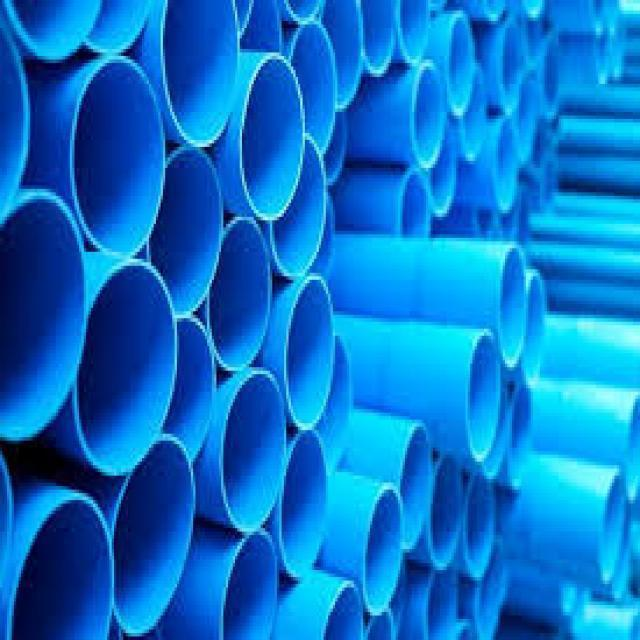pipe: (75, 261, 176, 478), (1, 196, 88, 443), (71, 58, 163, 253), (112, 436, 194, 637), (9, 499, 115, 640), (147, 149, 223, 312), (162, 1, 239, 145), (240, 56, 305, 220), (221, 369, 286, 531), (208, 217, 270, 370), (285, 276, 335, 430), (272, 137, 326, 278), (280, 430, 330, 581), (163, 317, 216, 455), (221, 535, 278, 640), (291, 23, 337, 151), (363, 487, 403, 614), (317, 339, 352, 469), (466, 331, 500, 457), (322, 4, 361, 109), (400, 425, 432, 550), (411, 60, 447, 169), (428, 449, 461, 565), (597, 470, 627, 582), (499, 245, 525, 366), (465, 476, 494, 580), (447, 15, 476, 115), (521, 271, 546, 385), (476, 542, 505, 639), (507, 388, 533, 494), (493, 120, 520, 216), (424, 565, 457, 640), (361, 1, 395, 73), (430, 127, 457, 216), (500, 20, 525, 112), (398, 0, 433, 64), (464, 70, 488, 160), (324, 582, 361, 639), (400, 168, 431, 236)
